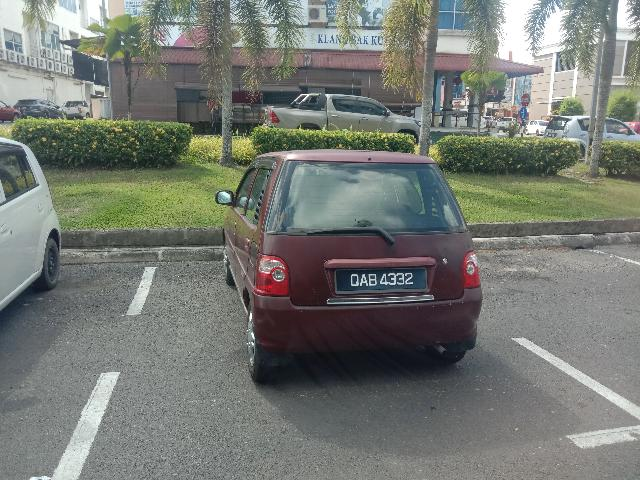License_Plate: (337, 270, 429, 295)
car: (209, 144, 492, 402)
